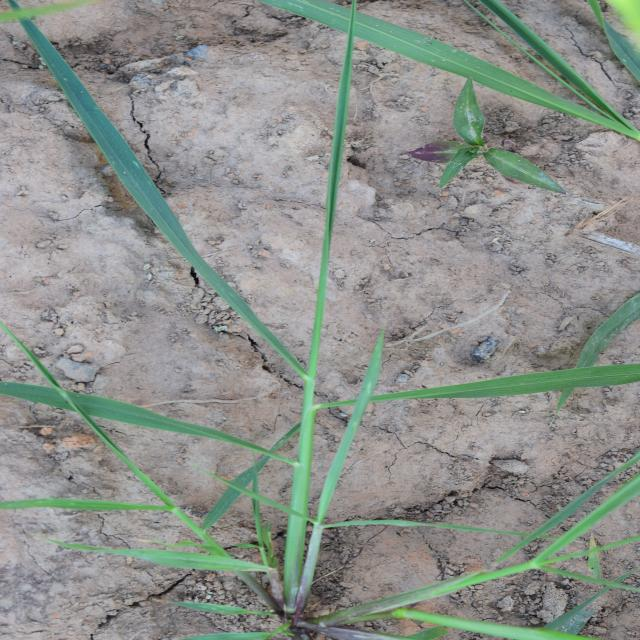green_foxtail: (8, 63, 402, 453)
